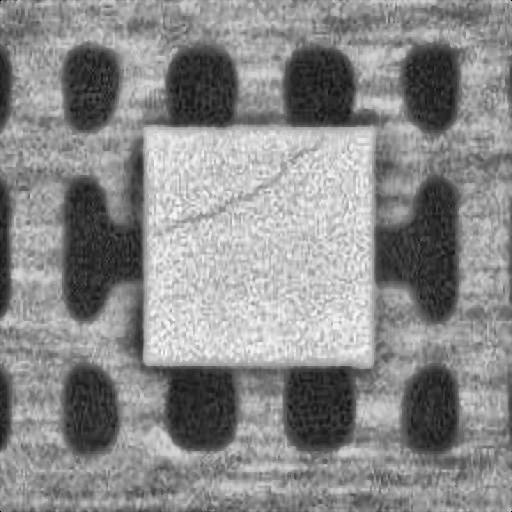DIE_CRACK: (156, 132, 324, 234)
